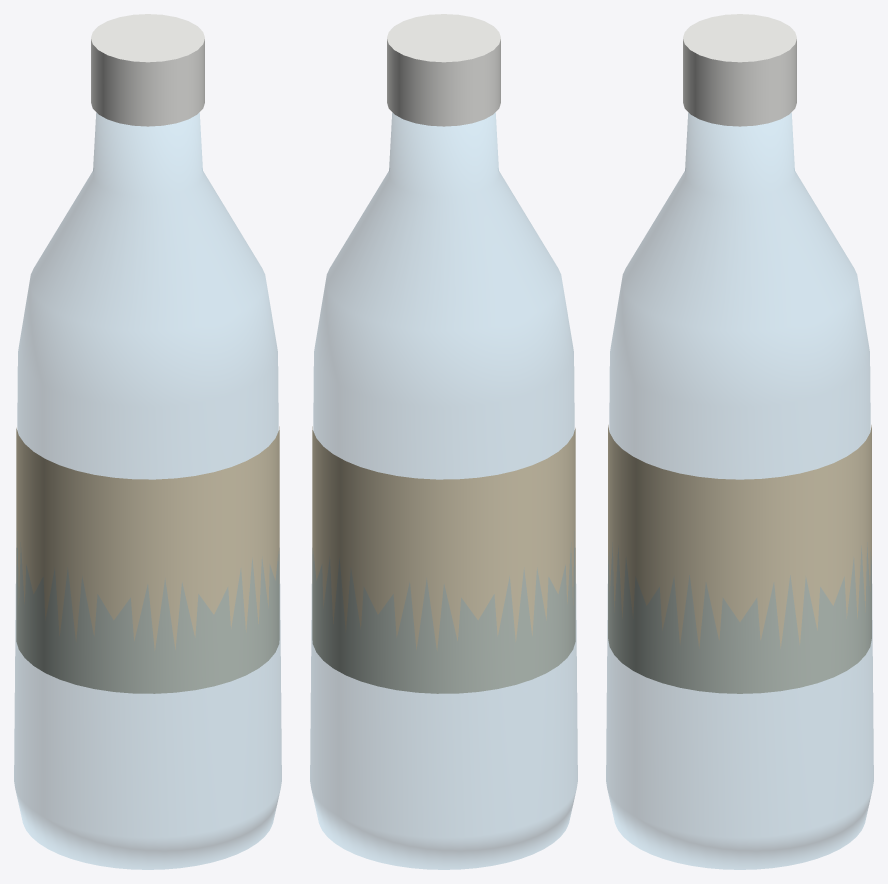
File: agua.glb
3 views of the same model, side by side, from view 1: azimuth 30°, elevation 25°; view 2: azimuth 150°, elevation 25°; view 3: azimuth 270°, elevation 25° (orthographic).
Parts seen in each view (by area): view 1: agua; view 2: agua; view 3: agua.
Boxes of the visible parts, x1,y1,x2,y2 form: agua: (14, 14, 281, 869); agua: (310, 14, 577, 869); agua: (606, 14, 873, 869).
Size of the model in its own units: 0.068 by 0.218 by 0.068.
